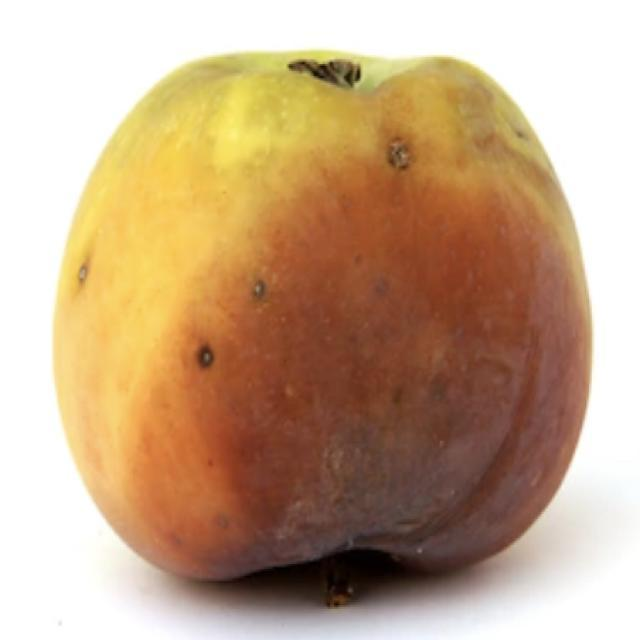Rotten: (77, 47, 573, 563)
